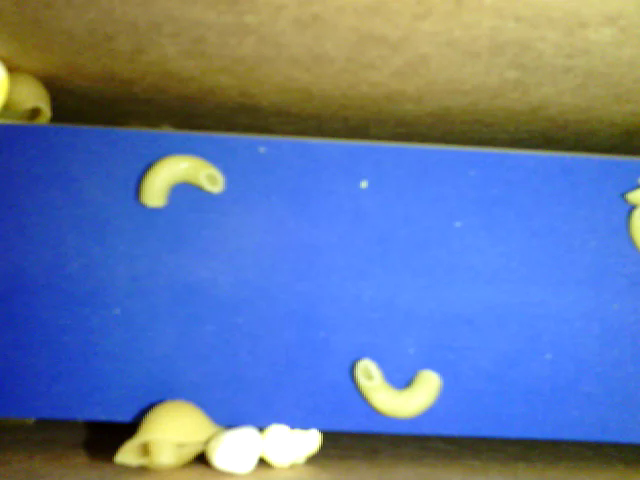elbow: (351, 358, 446, 422), (135, 155, 224, 206)
shell: (114, 396, 232, 469), (1, 68, 55, 125)
